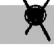not correct: (18, 0, 53, 42)
